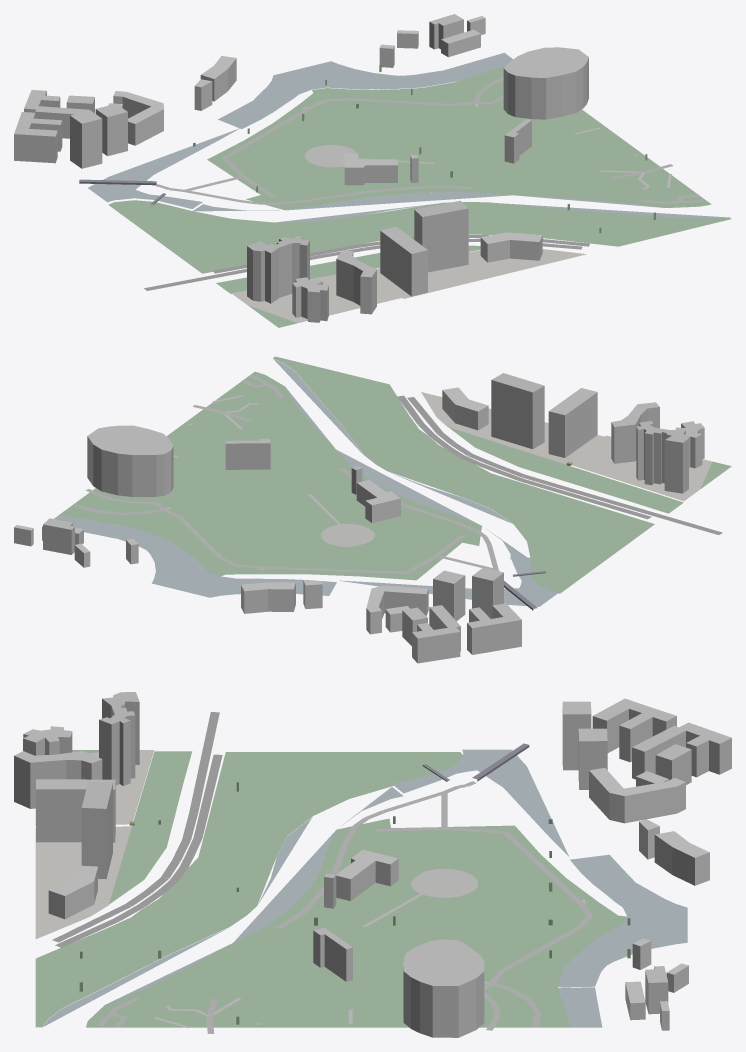
3 renders of one model, top to bottom at view 1: azimuth 30°, elevation 25°; view 2: azimuth 150°, elevation 25°; view 3: azimuth 270°, elevation 25°, orthographic. The views are drawn at different scales.
Size of the model in its own units: 586 by 60.41 by 551.
